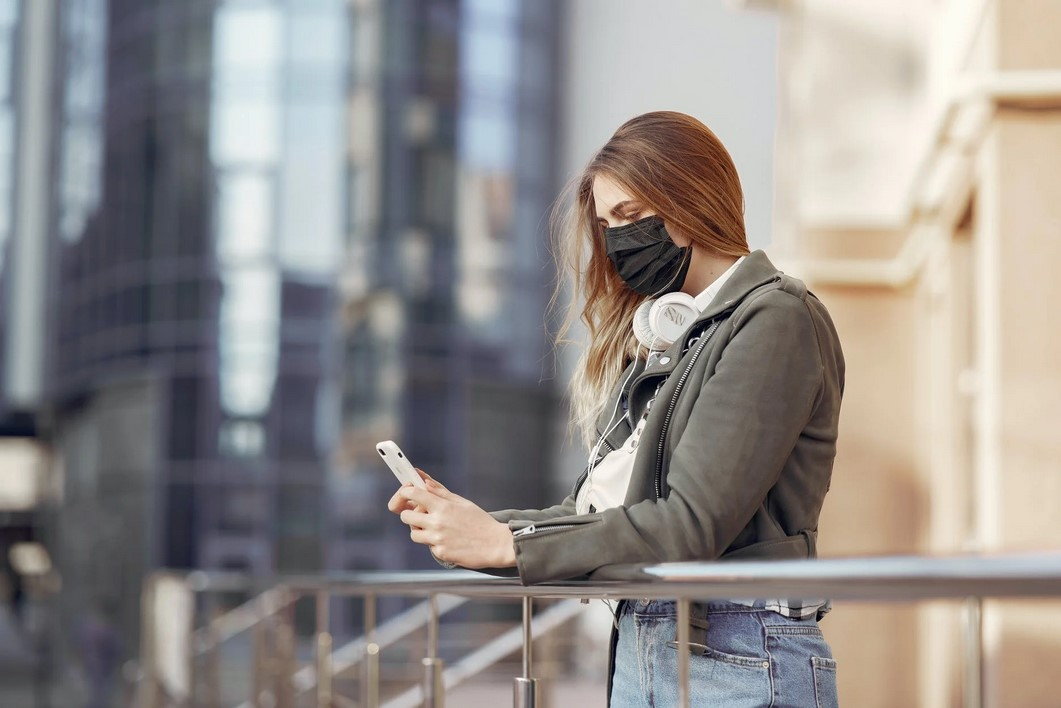face_with_mask: (586, 116, 731, 307)
